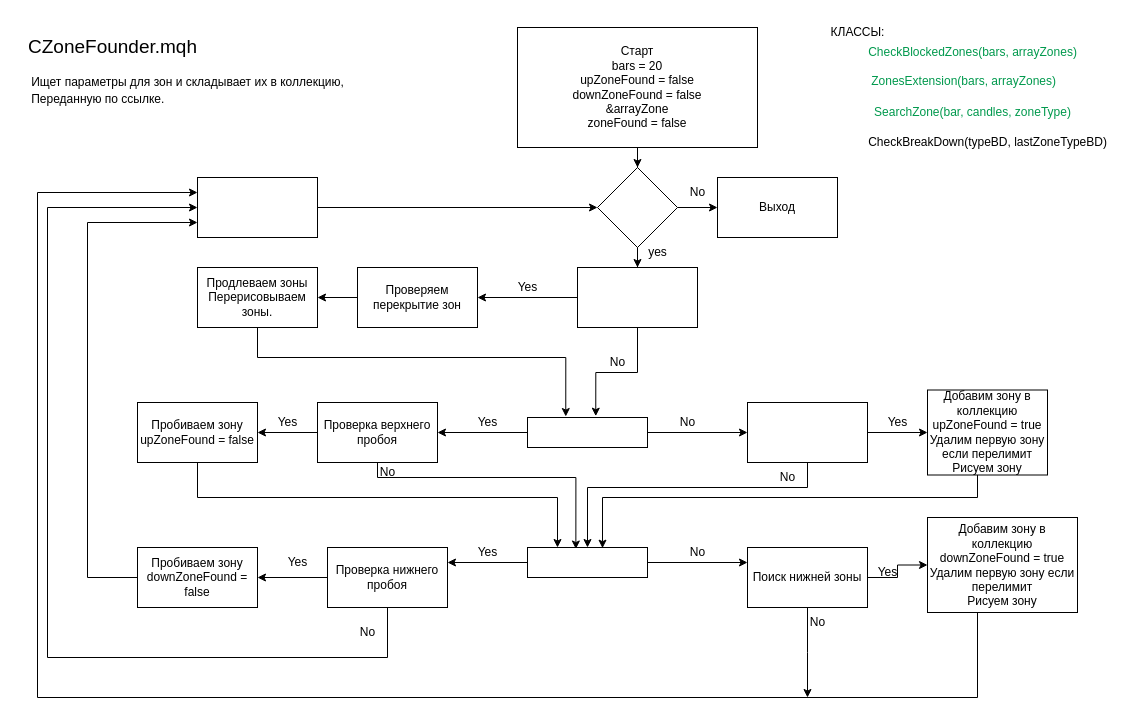
This 1134x723 diagram has some shape labels left out. Here are the shapes that lost their labels. From the top down, the centre of each, then its label:
At pixel 257 207: "bars --".
At pixel 637 207: "bars >= 1".
At pixel 637 297: "если найдена хоть одна зона".
At pixel 587 432: "Если верхняя зона найдена".
At pixel 807 432: "Поиск верхней зоны".
At pixel 587 562: "Если нижняя зона найдена".
